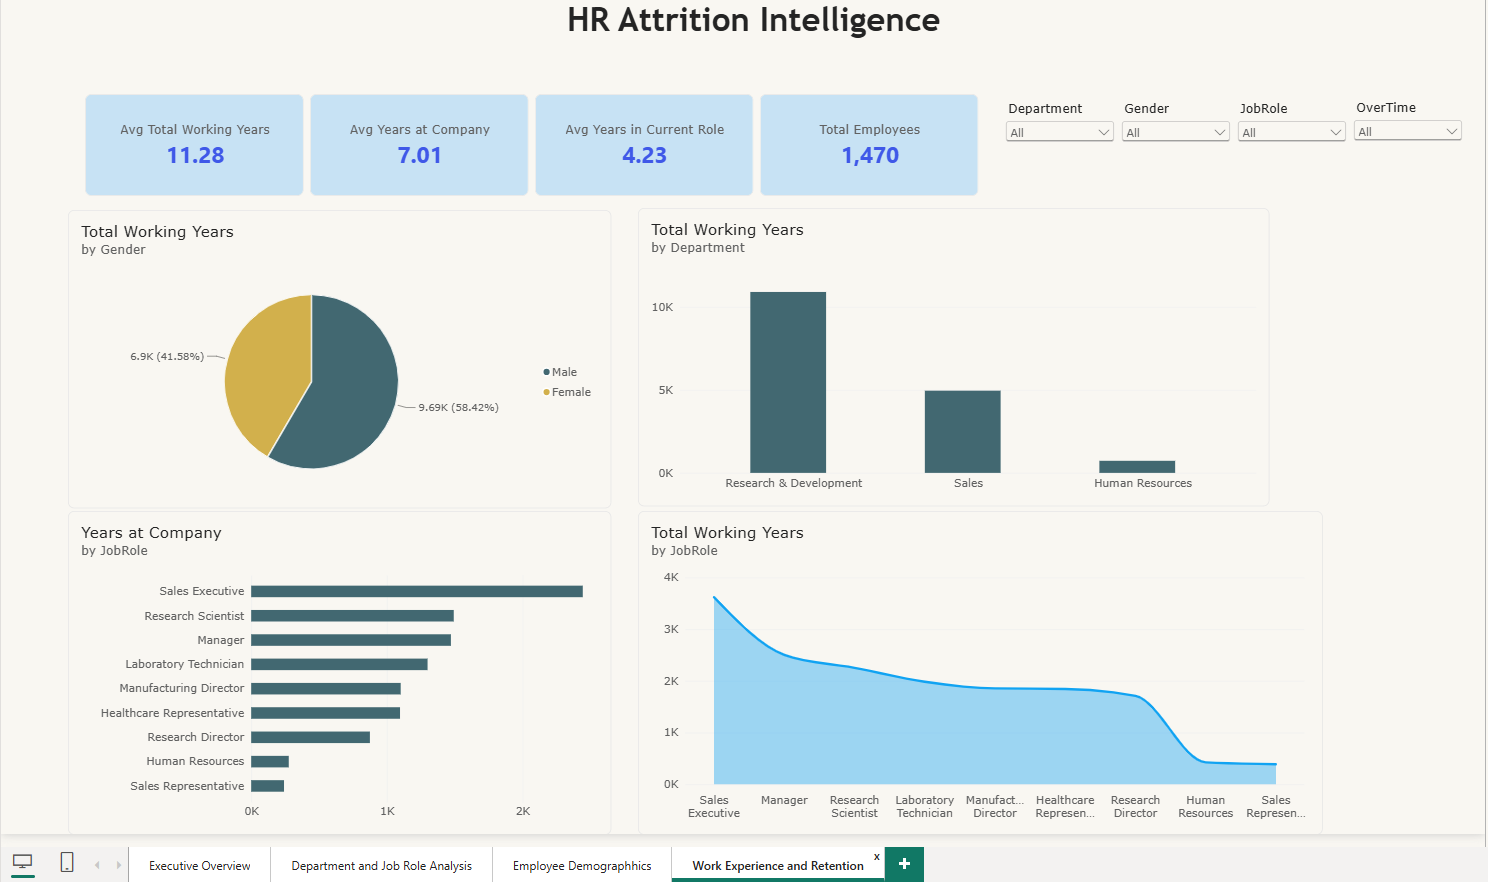

What the dashboard file says about the page in this screenshot:
{"tool":"powerbi","page":{"name":"Work Experience and Retention","canvas":[1920,1080],"ordinal":3},"visuals":[{"type":"cardVisual","fields":{"Data":["Employees.Avg Total Working Years","Employees.Avg Years at Company","Employees.Years in Current Role","Employees.Total Employees"]},"box":[108.6,121.4,1158.6,132.9],"z":0},{"type":"group","id":"g1","title":"Group 1","box":[1295.7,130,600,58.6],"z":0,"group":"g2"},{"type":"clusteredColumnChart","fields":{"Category":["Employees.Department"],"Y":["Employees.Total Working Years"]},"box":[824.3,268.6,817.1,385.7],"z":1},{"type":"clusteredBarChart","fields":{"Category":["Employees.JobRole"],"Y":["Employees.Years at Company"]},"box":[87.1,661.4,702.9,418.6],"z":2},{"type":"pieChart","fields":{"Category":["Employees.Gender"],"Y":["Employees.Total Working Years"]},"box":[87.1,271.4,702.9,385.7],"z":3},{"type":"areaChart","fields":{"Category":["Employees.JobRole"],"Y":["Employees.Total Working Years"]},"box":[824.3,661.4,885.7,418.6],"z":4},{"type":"group","id":"g2","title":"Group 2","box":[1295.7,130,600,58.6],"z":5},{"type":"textbox","box":[732.9,0,500,62.9],"z":6},{"type":"slicer","fields":{"Values":["Employees.Gender"]},"box":[1445.7,131.4,150,57.1],"z":1000,"group":"g2"},{"type":"slicer","fields":{"Values":["Employees.Department"]},"box":[1295.7,131.4,150,57.1],"z":5000,"group":"g1"},{"type":"slicer","fields":{"Values":["Employees.JobRole"]},"box":[1595.7,131.4,150,57.1],"z":7000,"group":"g1"},{"type":"slicer","fields":{"Values":["Employees.OverTime"]},"box":[1745.7,130,150,57.1],"z":8000,"group":"g1"}]}

Visuals, with their boxes on the page's 1920x1080 design canvas (x1, y1, x2, y2). These are canvas units, not pixel positions in the 1488x882 screenshot, which may show the page scaled, cropped or inside an application window:
cardVisual - Employees.Avg Total Working Years x Employees.Avg Years at Company: <region>109, 121, 1267, 254</region>
"Group 1" group: <region>1296, 130, 1896, 189</region>
clusteredColumnChart - Employees.Department x Employees.Total Working Years: <region>824, 269, 1641, 654</region>
clusteredBarChart - Employees.JobRole x Employees.Years at Company: <region>87, 661, 790, 1080</region>
pieChart - Employees.Gender x Employees.Total Working Years: <region>87, 271, 790, 657</region>
areaChart - Employees.JobRole x Employees.Total Working Years: <region>824, 661, 1710, 1080</region>
"Group 2" group: <region>1296, 130, 1896, 189</region>
textbox: <region>733, 0, 1233, 63</region>
slicer - Employees.Gender: <region>1446, 131, 1596, 188</region>
slicer - Employees.Department: <region>1296, 131, 1446, 188</region>
slicer - Employees.JobRole: <region>1596, 131, 1746, 188</region>
slicer - Employees.OverTime: <region>1746, 130, 1896, 187</region>
